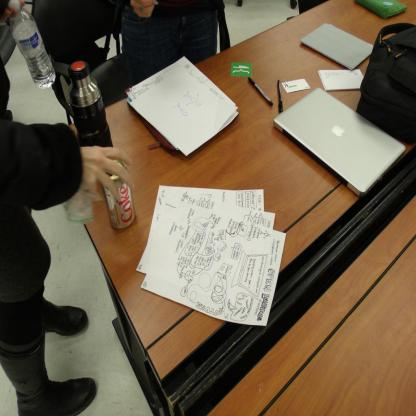board: (275, 77, 398, 196), (9, 1, 56, 89), (68, 60, 114, 148), (101, 159, 135, 231)
